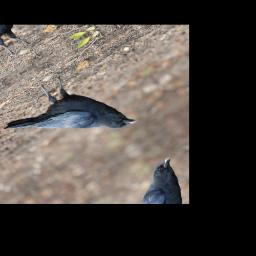Crow: (0, 57, 139, 175)
